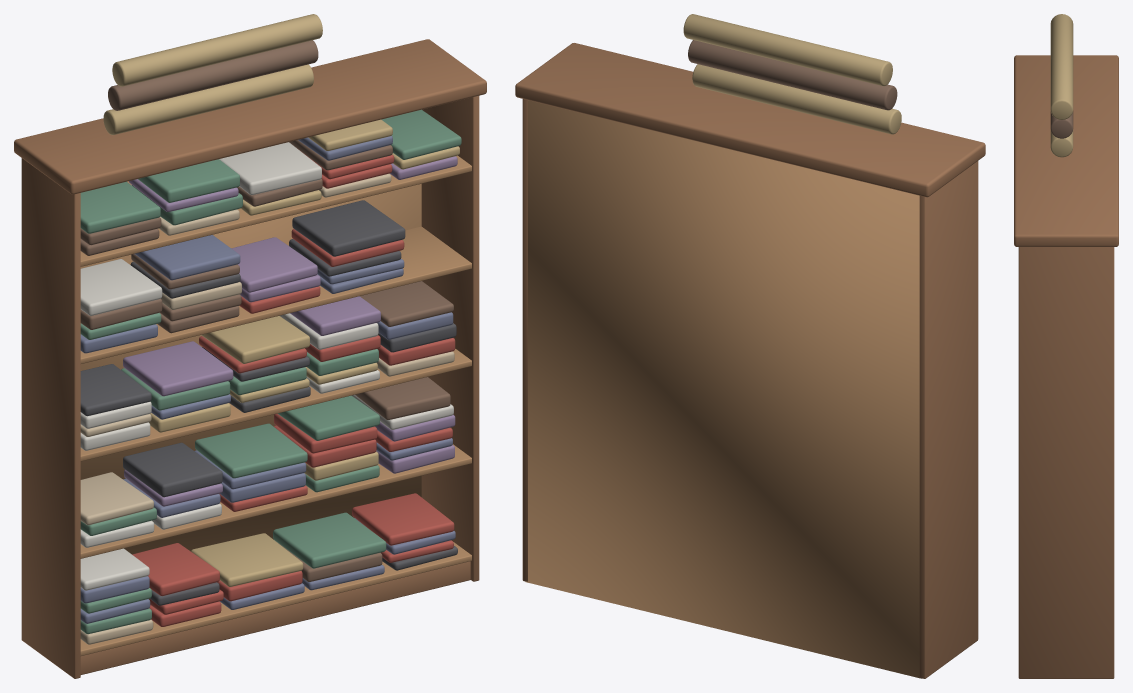
The model's file is v2_fabric_shelf.fbx.
3 renders of one model, left to right at view 1: azimuth 30°, elevation 25°; view 2: azimuth 150°, elevation 25°; view 3: azimuth 270°, elevation 25°, orthographic. The views are drawn at different scales.
Parts seen in each view (by area): view 1: Side-1, Crown, Side1, Back, Kick, Shelf3, Roll2, Roll1, Roll0, Shelf1, Shelf2, Shelf0 (+95 smaller); view 2: Back, Side-1, Crown, Roll2, Roll0, Roll1, Side1; view 3: Side1, Crown, Roll2, Roll0, Roll1.
Part boxes in pixels (bbox=[...]): Side-1: bbox=[21, 158, 80, 678]; Crown: bbox=[14, 39, 486, 194]; Side1: bbox=[421, 96, 479, 581]; Back: bbox=[80, 181, 421, 554]; Kick: bbox=[80, 561, 470, 674]; Shelf3: bbox=[80, 226, 471, 363]; Roll2: bbox=[112, 14, 322, 86]; Roll1: bbox=[108, 40, 318, 110]; Roll0: bbox=[103, 64, 313, 135]; Shelf1: bbox=[80, 444, 471, 558]; Shelf2: bbox=[80, 349, 471, 461]; Shelf0: bbox=[80, 542, 471, 655]; Back: bbox=[525, 100, 921, 678]; Side-1: bbox=[919, 161, 978, 678]; Crown: bbox=[515, 43, 985, 197]; Roll2: bbox=[683, 14, 892, 86]; Roll0: bbox=[692, 64, 901, 134]; Roll1: bbox=[688, 40, 897, 110]; Side1: bbox=[522, 99, 527, 581]; Side1: bbox=[1018, 247, 1114, 678]; Crown: bbox=[1014, 55, 1118, 246]; Roll2: bbox=[1050, 14, 1073, 119]; Roll0: bbox=[1050, 129, 1073, 157]; Roll1: bbox=[1050, 111, 1073, 138].
Bounding box in the file's own units: 1.88 × 2.51 × 0.46.
